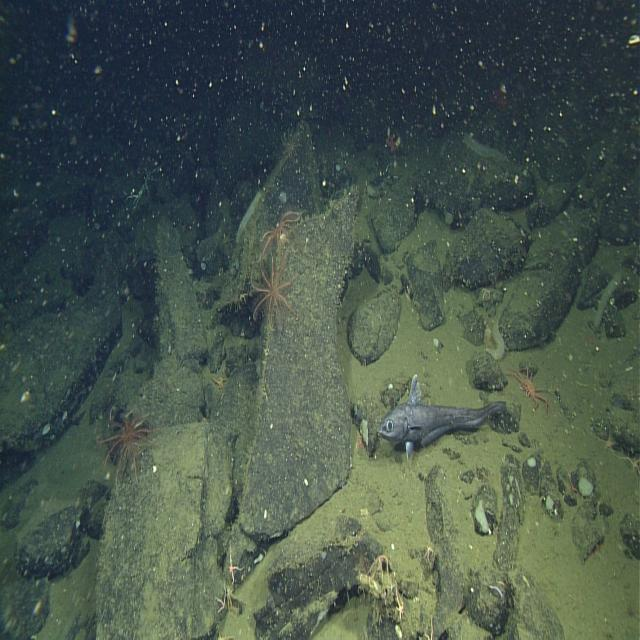Brittle Star: (596, 418, 619, 456), (228, 536, 246, 582), (619, 446, 640, 475), (392, 577, 406, 619), (421, 538, 436, 568)
Not Brittle Star: (375, 370, 512, 478), (94, 397, 162, 495), (248, 245, 302, 335), (255, 201, 305, 262), (505, 358, 550, 420), (590, 262, 628, 328), (461, 128, 508, 167), (482, 306, 511, 363), (521, 453, 543, 498), (472, 490, 492, 538), (574, 459, 598, 497), (281, 123, 303, 159), (200, 258, 208, 272)
